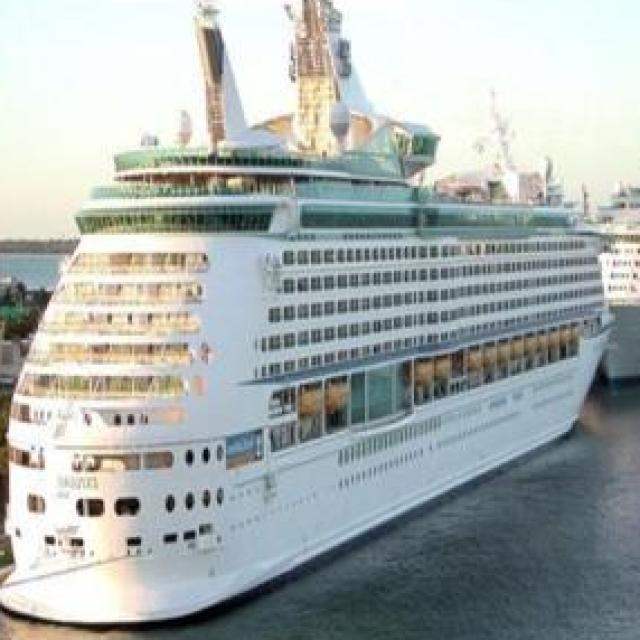passenger ship: (0, 134, 620, 609)
